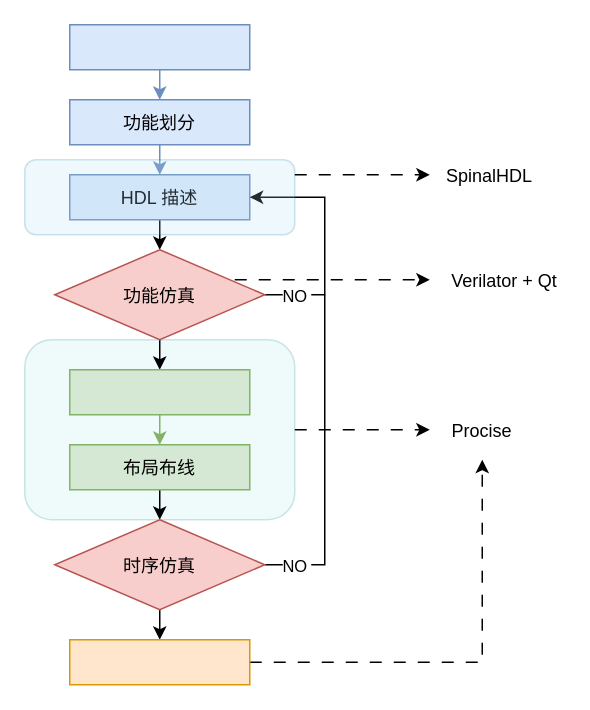
This 590x710 diagram has some shape labels left out. The shapes that lost their labels are listed below. From the top down, each one's centre as x and y in pixels, then its label:
At (159,46): "需求分析".
At (159,391): "逻辑综合".
At (159,661): "下载".
